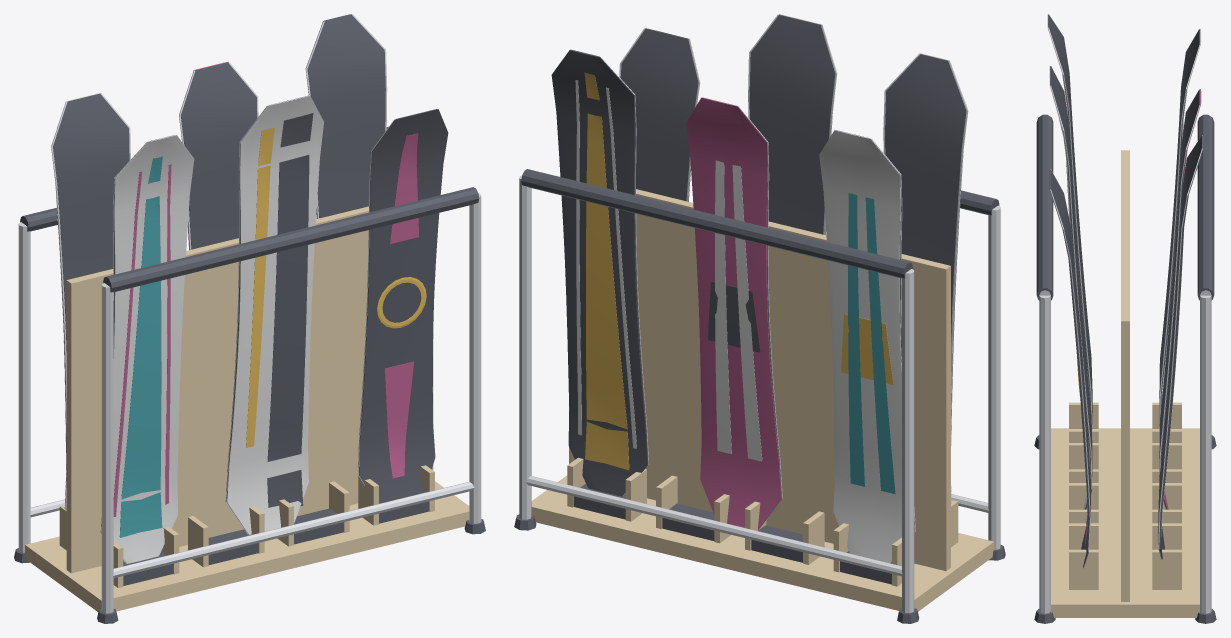
Rendered from snowboard-gear-and-freestyle-riders-floor-board-rack-s-897d565f__27179.glb.
3 renders of one model, left to right at view 1: azimuth 30°, elevation 25°; view 2: azimuth 150°, elevation 25°; view 3: azimuth 270°, elevation 25°, orthographic. The views are drawn at different scales.
Parts seen in each view (by area): view 1: floor-board-rack-stocked; view 2: floor-board-rack-stocked; view 3: floor-board-rack-stocked.
Part boxes in pixels (x1,y1,x2,y2): floor-board-rack-stocked: (14,14,485,623); floor-board-rack-stocked: (514,14,1005,623); floor-board-rack-stocked: (1034,14,1216,623).
Bounding box in the file's own units: 1.45 × 1.69 × 0.612.
